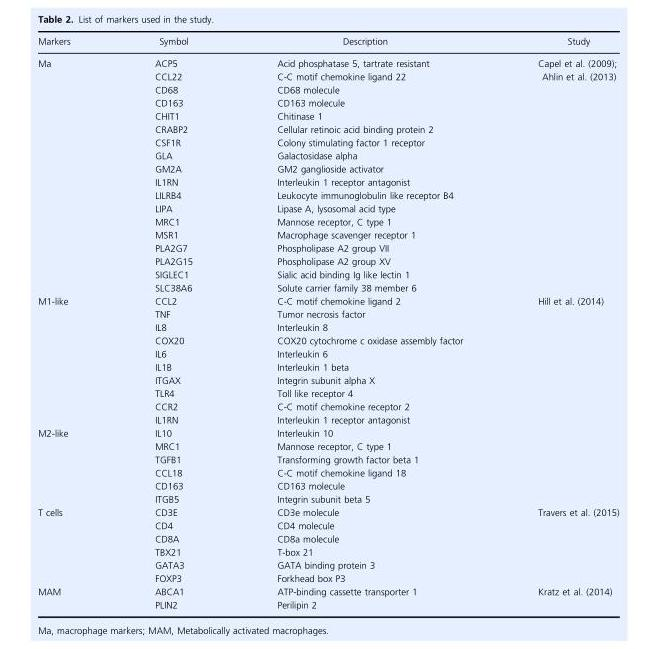table: (37, 36, 618, 609)
table column: (234, 36, 494, 609), (494, 36, 618, 609), (111, 36, 234, 609), (37, 36, 111, 609)
table column header: (37, 36, 618, 52)
table row: (37, 52, 618, 70), (37, 36, 618, 52), (37, 122, 618, 136), (37, 188, 618, 202), (37, 254, 618, 268), (37, 320, 618, 334), (37, 373, 618, 387), (37, 439, 618, 453), (37, 505, 618, 519), (37, 571, 618, 585), (37, 70, 618, 83), (37, 83, 618, 96), (37, 96, 618, 109), (37, 109, 618, 122), (37, 136, 618, 149), (37, 149, 618, 162), (37, 162, 618, 175), (37, 175, 618, 188), (37, 202, 618, 215), (37, 215, 618, 228), (37, 228, 618, 241), (37, 241, 618, 254), (37, 268, 618, 281), (37, 281, 618, 294), (37, 294, 618, 307), (37, 307, 618, 320), (37, 334, 618, 347), (37, 347, 618, 360), (37, 360, 618, 373), (37, 387, 618, 400), (37, 400, 618, 413), (37, 413, 618, 426), (37, 426, 618, 439), (37, 453, 618, 466), (37, 466, 618, 479), (37, 479, 618, 492), (37, 492, 618, 505), (37, 519, 618, 532), (37, 532, 618, 545), (37, 545, 618, 558), (37, 558, 618, 571), (37, 585, 618, 598), (37, 598, 618, 609)
table spanning cell: (494, 52, 618, 294), (37, 52, 111, 294), (494, 505, 618, 585), (37, 294, 111, 426), (37, 505, 111, 585), (37, 426, 111, 505), (234, 334, 618, 347), (494, 294, 618, 334), (494, 585, 618, 609), (37, 585, 111, 609)
